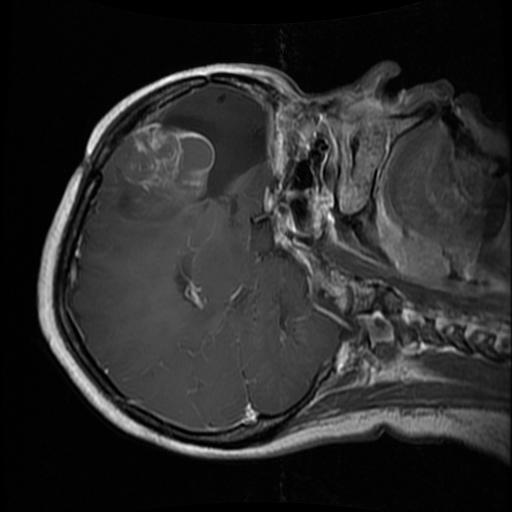glioma: (116, 82, 267, 225)
